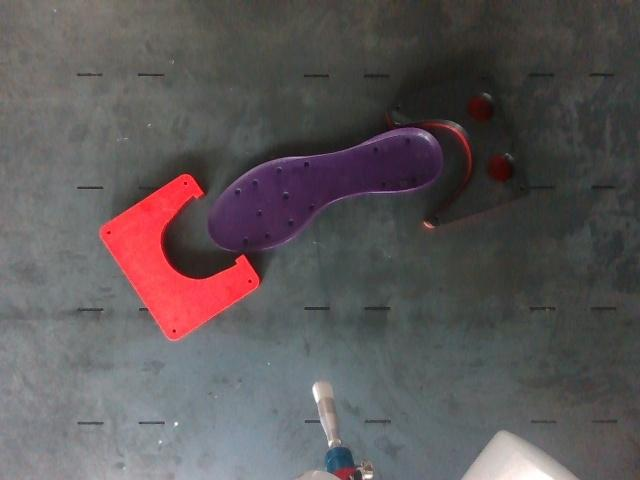shoes: (207, 128, 442, 250)
